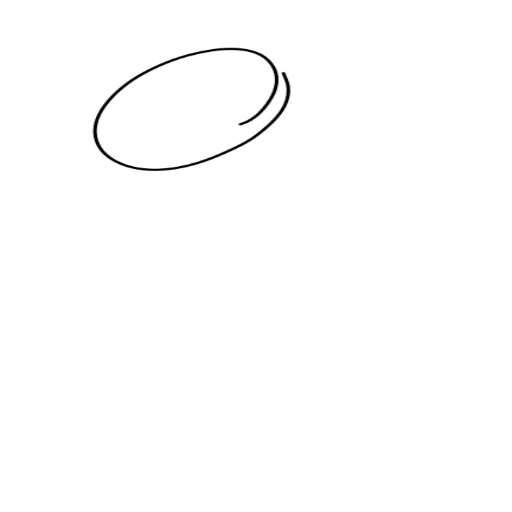circle: (87, 38, 297, 174)
